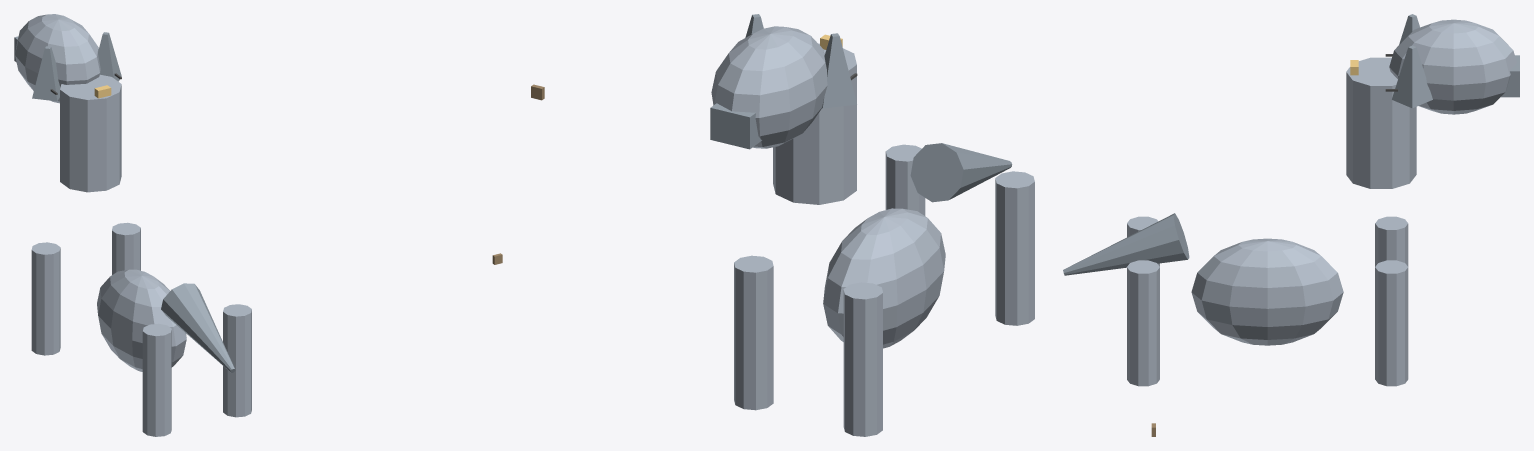
Rendered from kyma.glb.
3 renders of one model, left to right at view 1: azimuth 30°, elevation 25°; view 2: azimuth 150°, elevation 25°; view 3: azimuth 270°, elevation 25°, orthographic. The views are drawn at different scales.
Parts seen in each view (by area): view 1: kyma_neck, kyma_body, kyma_head, kyma_leg_FL, kyma_leg_BL, kyma_leg_BR, kyma_tail, kyma_leg_FR, kyma_telinga_l, kyma_telinga_r; view 2: kyma_body, kyma_head, kyma_neck, kyma_leg_FL, kyma_leg_FR, kyma_leg_BL, kyma_tail, kyma_leg_BR, kyma_mukon, kyma_telinga_l; view 3: kyma_body, kyma_head, kyma_neck, kyma_leg_FR, kyma_leg_BR, kyma_tail, kyma_telinga_r, kyma_leg_FL.
Boxes of the visible parts, x1=… form: kyma_neck: x1=60, y1=74, x2=121, y2=192; kyma_body: x1=97, y1=269, x2=186, y2=371; kyma_head: x1=15, y1=14, x2=100, y2=103; kyma_leg_FL: x1=31, y1=242, x2=60, y2=355; kyma_leg_BL: x1=142, y1=323, x2=171, y2=436; kyma_leg_BR: x1=223, y1=304, x2=251, y2=417; kyma_tail: x1=161, y1=283, x2=235, y2=372; kyma_leg_FR: x1=112, y1=222, x2=140, y2=274; kyma_telinga_l: x1=32, y1=46, x2=60, y2=101; kyma_telinga_r: x1=98, y1=32, x2=121, y2=81; kyma_body: x1=823, y1=208, x2=945, y2=348; kyma_head: x1=711, y1=26, x2=827, y2=148; kyma_neck: x1=773, y1=43, x2=856, y2=204; kyma_leg_FL: x1=843, y1=282, x2=882, y2=436; kyma_leg_FR: x1=734, y1=255, x2=773, y2=410; kyma_leg_BL: x1=995, y1=171, x2=1034, y2=325; kyma_tail: x1=910, y1=143, x2=1012, y2=202; kyma_leg_BR: x1=885, y1=144, x2=925, y2=215; kyma_mukon: x1=710, y1=103, x2=761, y2=149; kyma_telinga_l: x1=822, y1=33, x2=856, y2=108; kyma_body: x1=1191, y1=238, x2=1343, y2=345; kyma_head: x1=1389, y1=19, x2=1516, y2=114; kyma_neck: x1=1346, y1=57, x2=1416, y2=188; kyma_leg_FR: x1=1375, y1=260, x2=1408, y2=386; kyma_leg_BR: x1=1127, y1=260, x2=1159, y2=386; kyma_tail: x1=1063, y1=213, x2=1189, y2=275; kyma_telinga_r: x1=1392, y1=45, x2=1432, y2=108; kyma_leg_FL: x1=1375, y1=216, x2=1408, y2=266.
Bounding box in the file's own units: 2.25 × 1.78 × 2.21.
